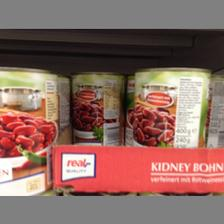Bohnen: (0, 64, 60, 194), (132, 68, 212, 148), (68, 68, 126, 144)
